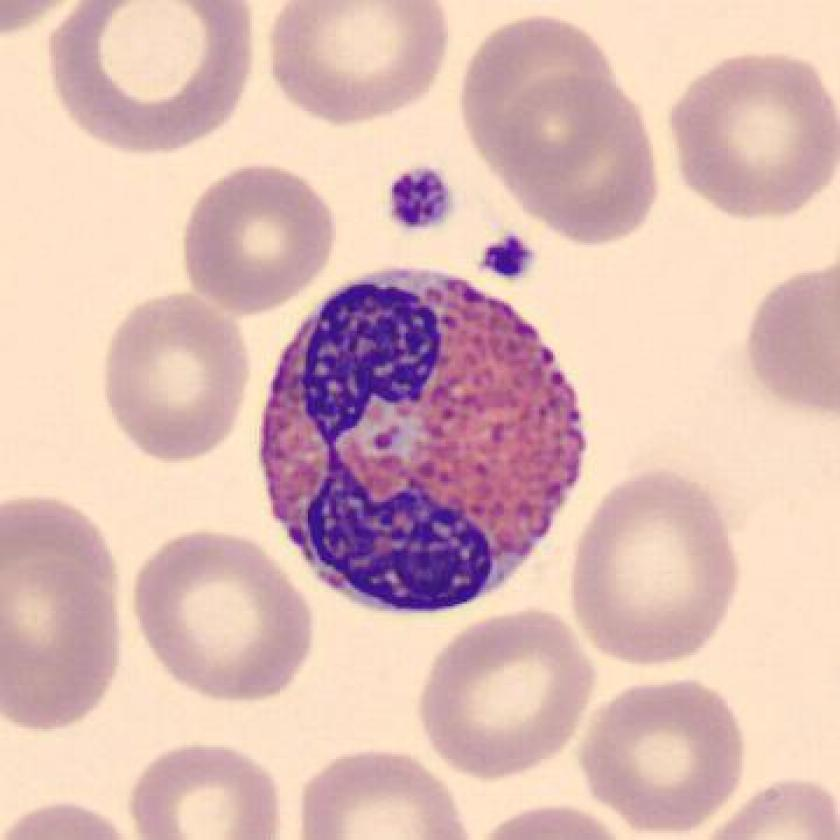eosinophil: (244, 253, 598, 633)
